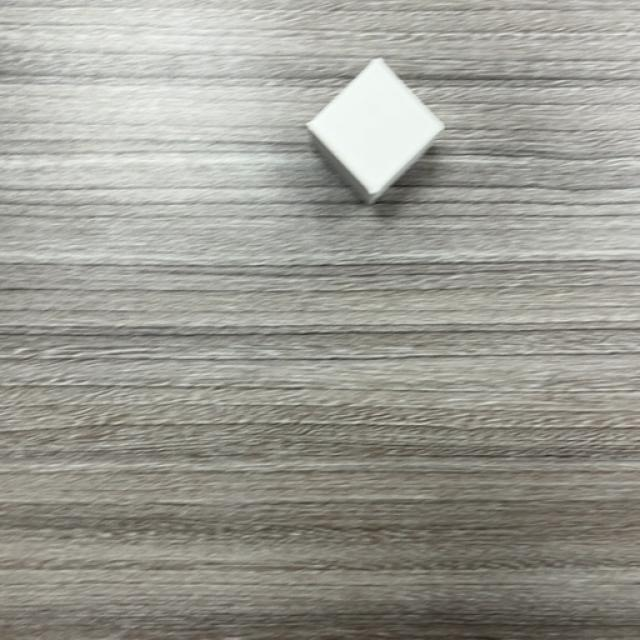Blanco: (305, 60, 444, 205)
